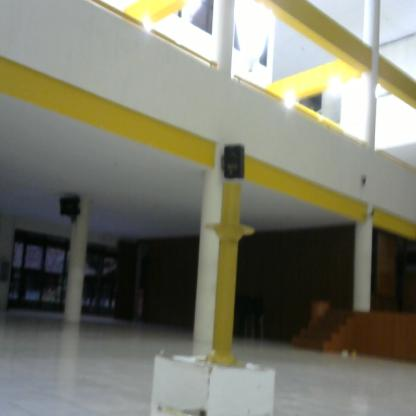pole: (192, 183, 254, 373)
